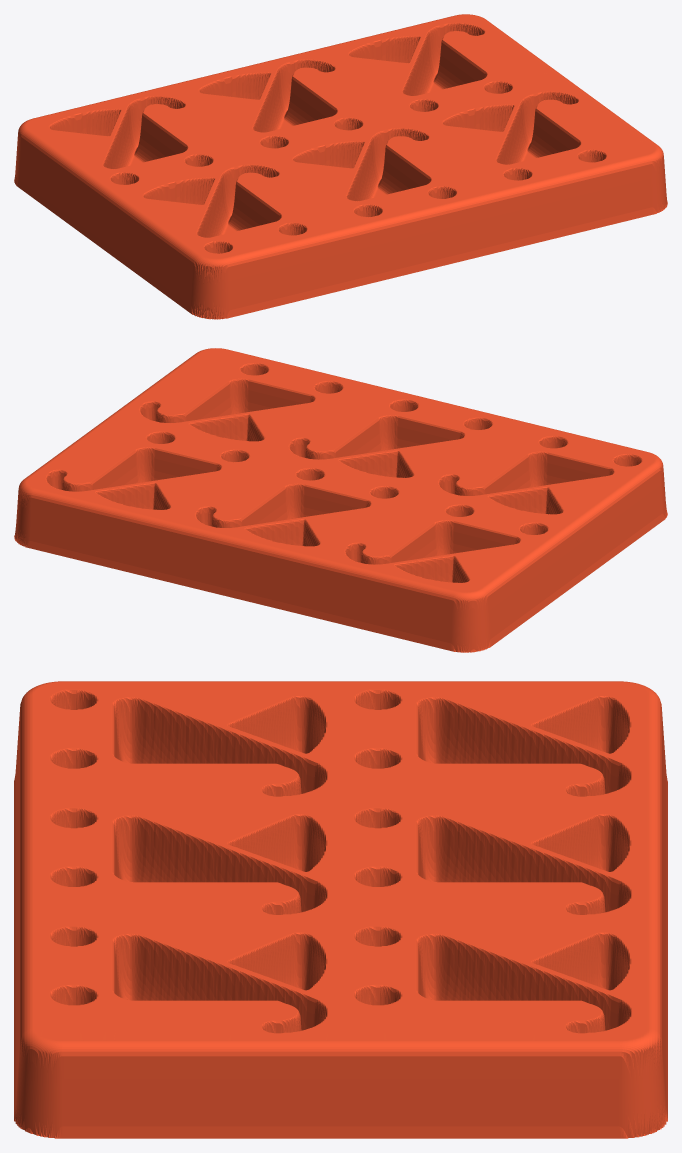
Rendered from mold.glb.
The picture shows the model from 3 angles, top to bottom: view 1: azimuth 30°, elevation 25°; view 2: azimuth 150°, elevation 25°; view 3: azimuth 270°, elevation 25°; orthographic projection. The views are drawn at different scales.
Parts seen in each view (by area): view 1: geometry_0; view 2: geometry_0; view 3: geometry_0.
Boxes of the visible parts, x1=… form: geometry_0: x1=14, y1=14, x2=667, y2=319; geometry_0: x1=14, y1=348, x2=667, y2=652; geometry_0: x1=14, y1=681, x2=667, y2=1138.
Bounding box in the file's own units: 0.1657 × 0.0185 × 0.1222.
